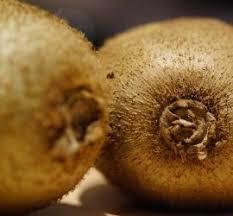Organic: (0, 1, 233, 209)
